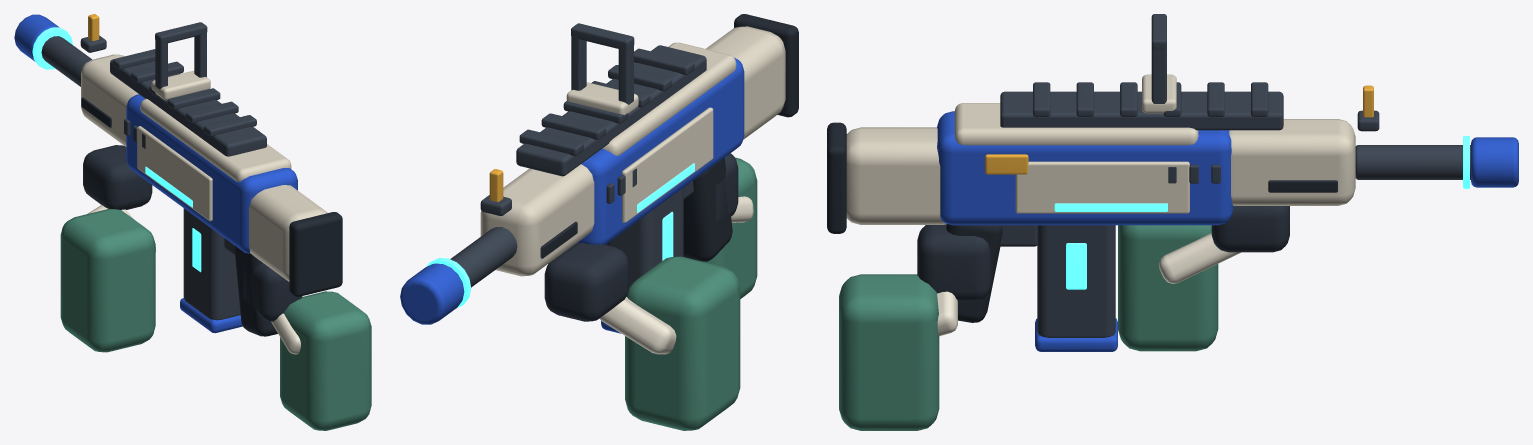
The model's file is rifle.glb.
The picture shows the model from 3 angles, left to right: view 1: azimuth 30°, elevation 25°; view 2: azimuth 150°, elevation 25°; view 3: azimuth 270°, elevation 25°; orthographic projection. The views are drawn at different scales.
Parts seen in each view (by area): view 1: rifle_toy_sleeve, rifle_toy_metal, rifle_toy_shell, rifle_toy_primary, rifle_toy_rubber, rifle_toy_glove, rifle_toy_glow, rifle_toy_cuff; view 2: rifle_toy_shell, rifle_toy_sleeve, rifle_toy_metal, rifle_toy_primary, rifle_toy_glove, rifle_toy_rubber, rifle_toy_cuff, rifle_toy_glow, rifle_toy_accent; view 3: rifle_toy_shell, rifle_toy_sleeve, rifle_toy_metal, rifle_toy_primary, rifle_toy_glove, rifle_toy_rubber, rifle_toy_cuff, rifle_toy_glow, rifle_toy_accent.
Boxes of the visible parts, left/top/right/bottom form: rifle_toy_sleeve: left=60, top=208, right=371, bottom=430; rifle_toy_metal: left=41, top=22, right=266, bottom=320; rifle_toy_shell: left=81, top=54, right=327, bottom=281; rifle_toy_primary: left=14, top=14, right=297, bottom=333; rifle_toy_rubber: left=81, top=97, right=342, bottom=336; rifle_toy_glove: left=83, top=145, right=302, bottom=321; rifle_toy_glow: left=32, top=27, right=201, bottom=272; rifle_toy_cuff: left=87, top=205, right=300, bottom=354; rifle_toy_shell: left=480, top=26, right=785, bottom=276; rifle_toy_sleeve: left=625, top=157, right=757, bottom=430; rifle_toy_metal: left=450, top=23, right=706, bottom=287; rifle_toy_primary: left=400, top=57, right=744, bottom=333; rifle_toy_glove: left=544, top=153, right=738, bottom=321; rifle_toy_rubber: left=540, top=14, right=798, bottom=261; rifle_toy_cuff: left=599, top=196, right=753, bottom=354; rifle_toy_glow: left=426, top=163, right=694, bottom=307; rifle_toy_accent: left=489, top=169, right=503, bottom=201; rifle_toy_shell: left=846, top=74, right=1355, bottom=224; rifle_toy_sleeve: left=839, top=225, right=1218, bottom=430; rifle_toy_metal: left=1000, top=14, right=1470, bottom=337; rifle_toy_primary: left=937, top=111, right=1518, bottom=351; rifle_toy_glove: left=917, top=206, right=1289, bottom=301; rifle_toy_rubber: left=827, top=122, right=1337, bottom=322; rifle_toy_cuff: left=937, top=233, right=1240, bottom=336; rifle_toy_glow: left=1054, top=136, right=1469, bottom=289; rifle_toy_accent: left=985, top=85, right=1373, bottom=174.
Bounding box in the file's own units: 0.525 × 0.948 × 1.59.
